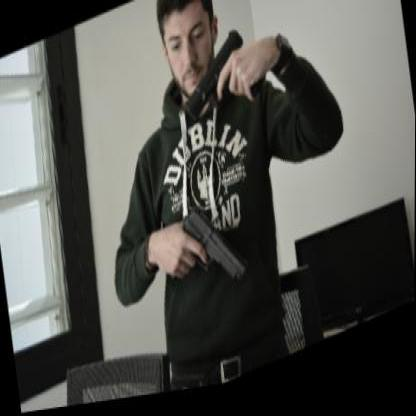pistol: (160, 188, 251, 314), (177, 22, 268, 134)
